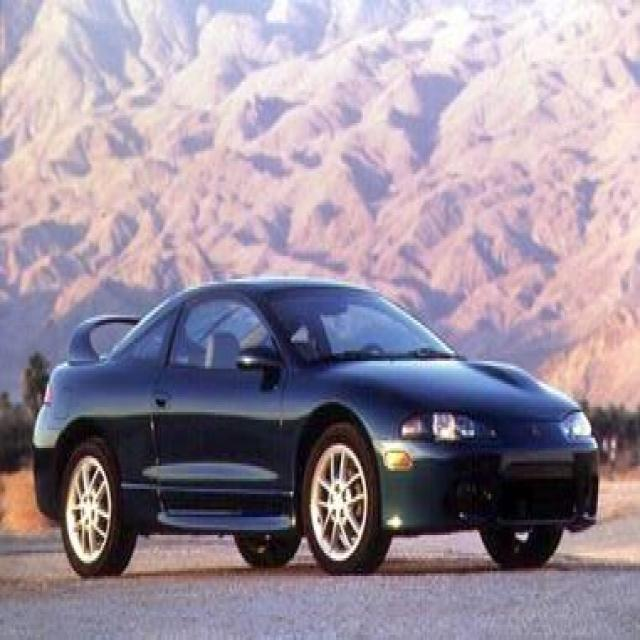Car: (52, 188, 620, 595)
